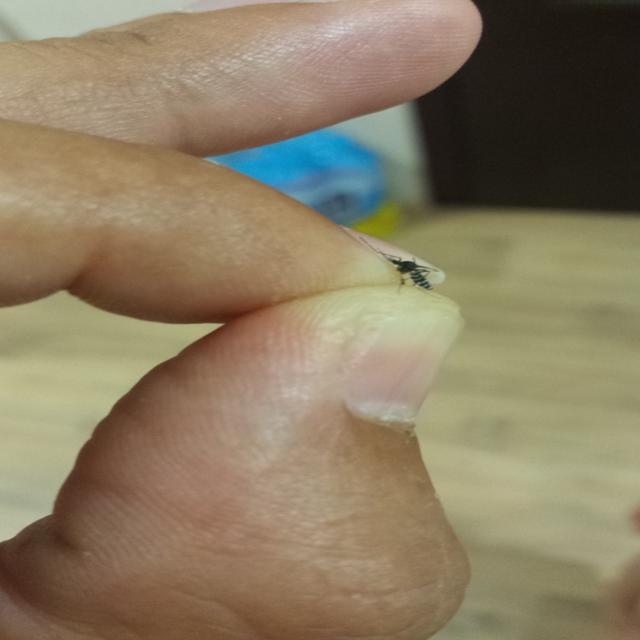albopictus: (304, 226, 446, 299)
